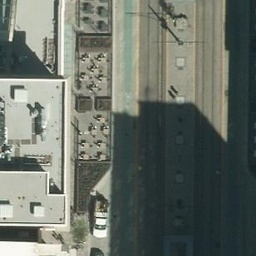car: (91, 201, 111, 239)
